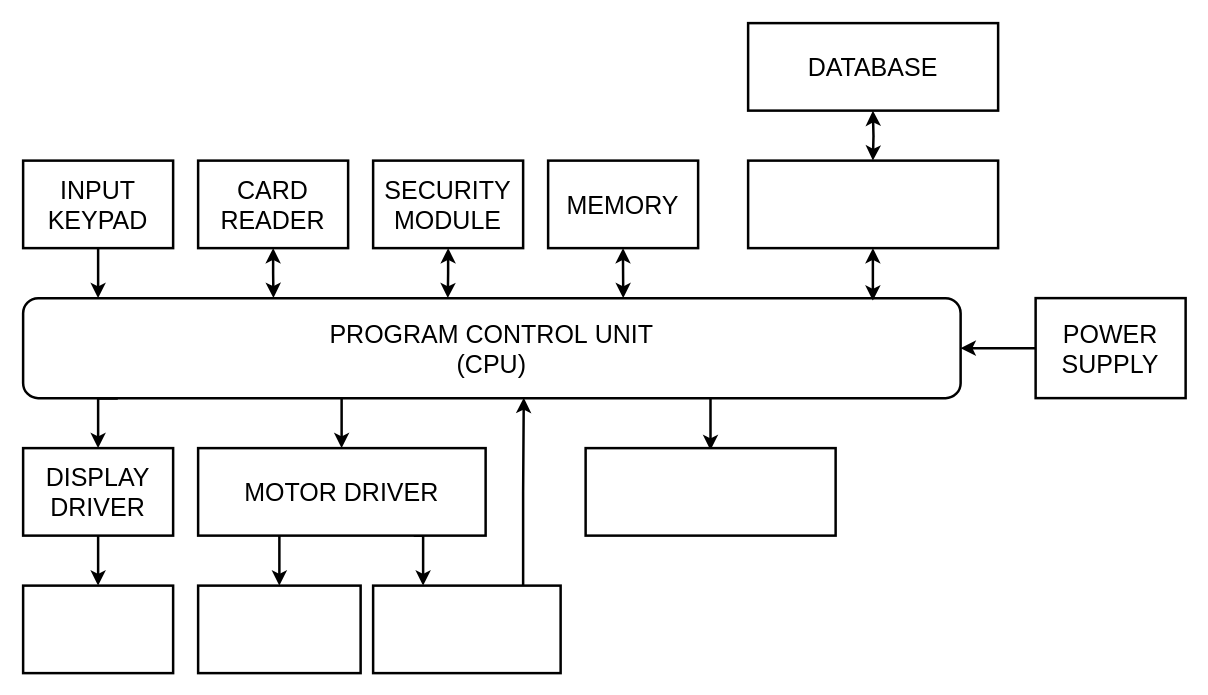
The diagram is 1208 pixels wide and 695 high, and some of its shapes have lost their labels. The shapes that lost their labels are listed below. From the top down, each one's box as (x1, y1, x2, y2) in pixels, then its label:
(746, 159, 999, 249): INTERNET CONNECTIVITY
(584, 446, 836, 536): RECEIPT PRINTER
(21, 584, 174, 674): LCD DISPLAY
(196, 584, 361, 674): CASH DISPENSER
(371, 584, 561, 674): CASH COUNTER
